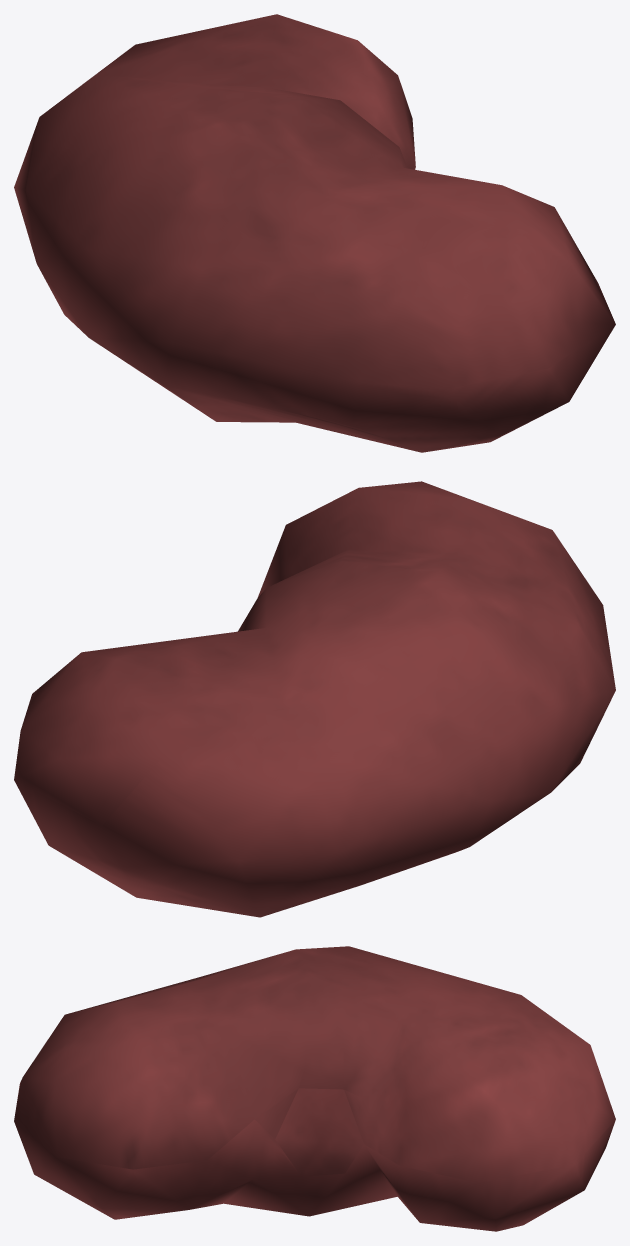
The model's file is TCA_KidneyR.fbx.
3 views of the same model, one above another, from view 1: azimuth 30°, elevation 25°; view 2: azimuth 150°, elevation 25°; view 3: azimuth 270°, elevation 25° (orthographic). The views are drawn at different scales.
Visible parts, largest first — view 1: KidneyR; view 2: KidneyR; view 3: KidneyR.
Boxes of the visible parts, bbox=[...] form: KidneyR: bbox=[14, 14, 615, 452]; KidneyR: bbox=[14, 481, 615, 917]; KidneyR: bbox=[14, 946, 615, 1231].
Bounding box in the file's own units: 0.107 × 0.07 × 0.1639.
